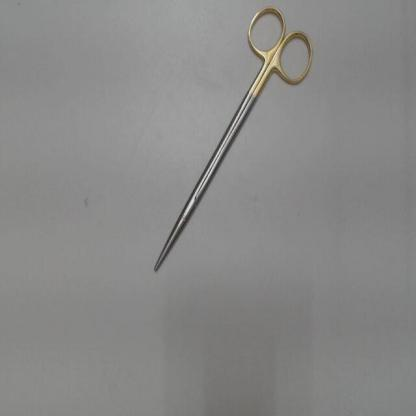7 Metzenbaum Scissors: (151, 2, 318, 276)
